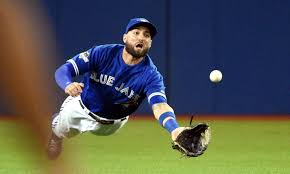baseball: (208, 69, 224, 84)
baseball player: (46, 16, 212, 163)
